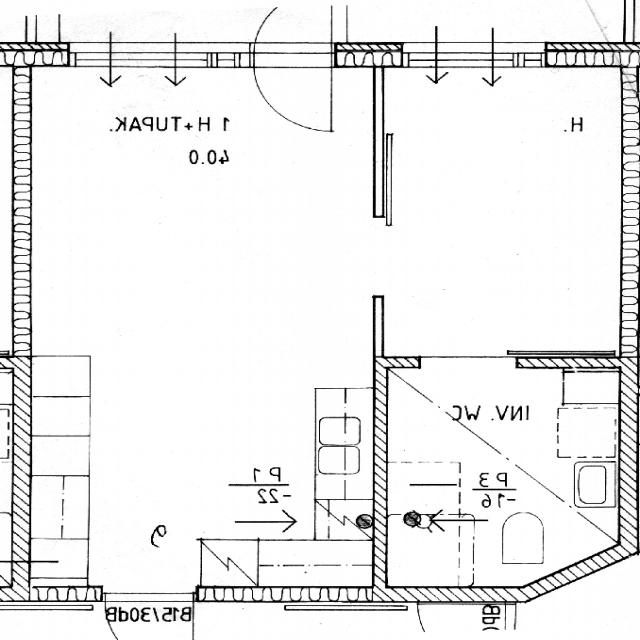door: (255, 42, 332, 131), (255, 0, 332, 67)
